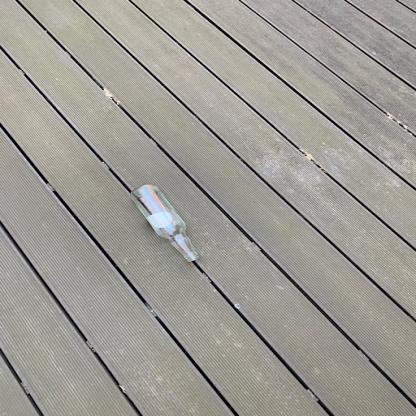trash: (132, 183, 200, 268)
